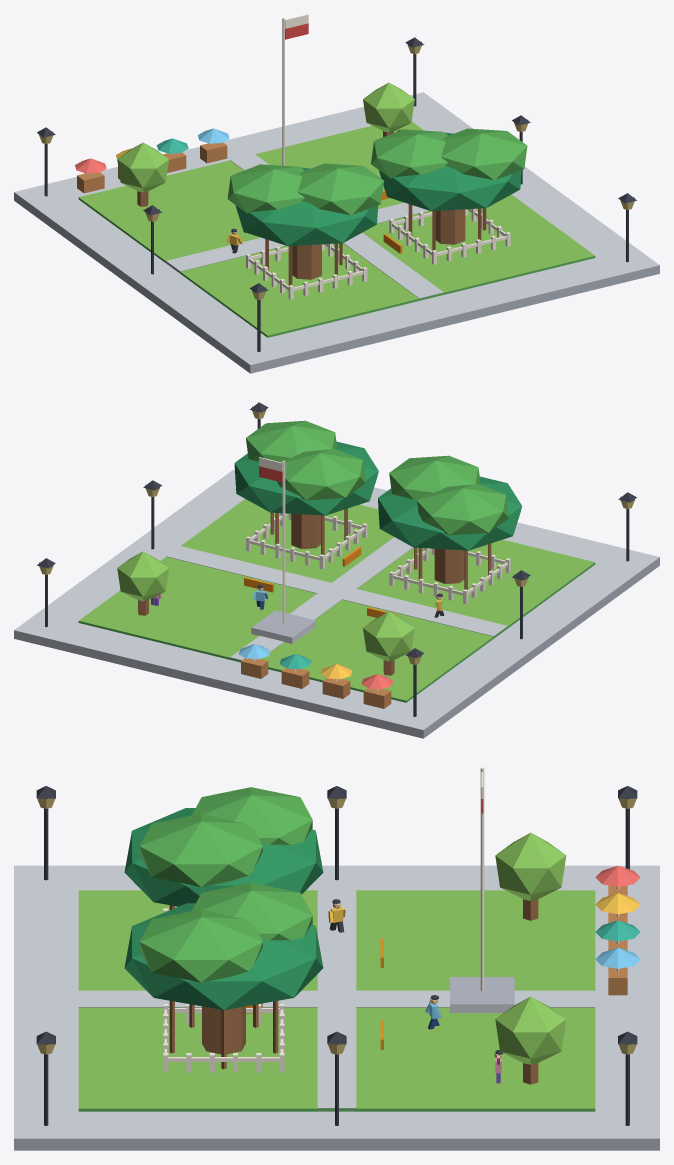
File: park_square.glb
The picture shows the model from 3 angles, top to bottom: view 1: azimuth 30°, elevation 25°; view 2: azimuth 150°, elevation 25°; view 3: azimuth 270°, elevation 25°; orthographic projection. The views are drawn at different scales.
Visible parts, largest first — view 1: park_square; view 2: park_square; view 3: park_square.
Part boxes in pixels (bbox=[...]): park_square: bbox=[14, 14, 659, 373]; park_square: bbox=[14, 402, 659, 738]; park_square: bbox=[14, 767, 659, 1150].
Bounding box in the file's own units: 2 × 0.84 × 2.
